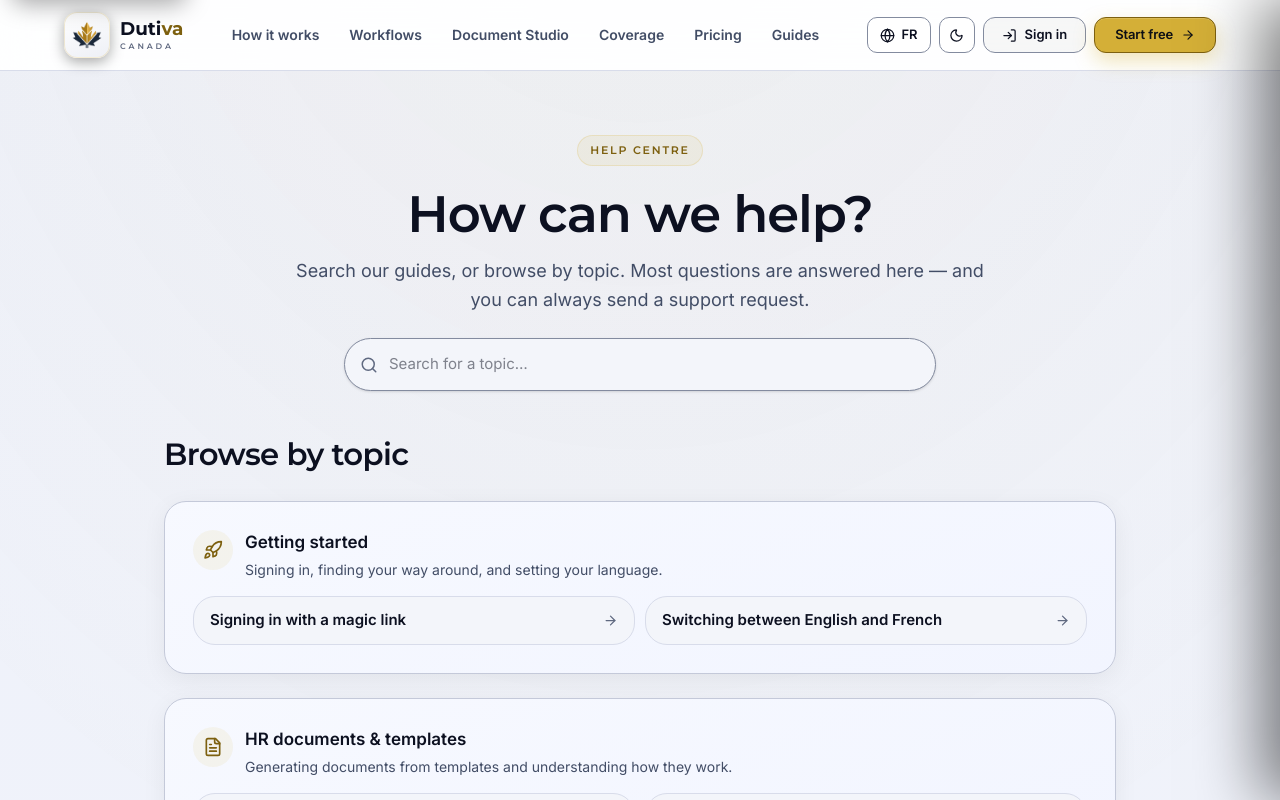
it: HelpCenterPage › clears the query with the clear button
The image size is (1280, 800).
Type "billing" into the search field. click: {"x": 640, "y": 365}
box: [344,338,936,391]
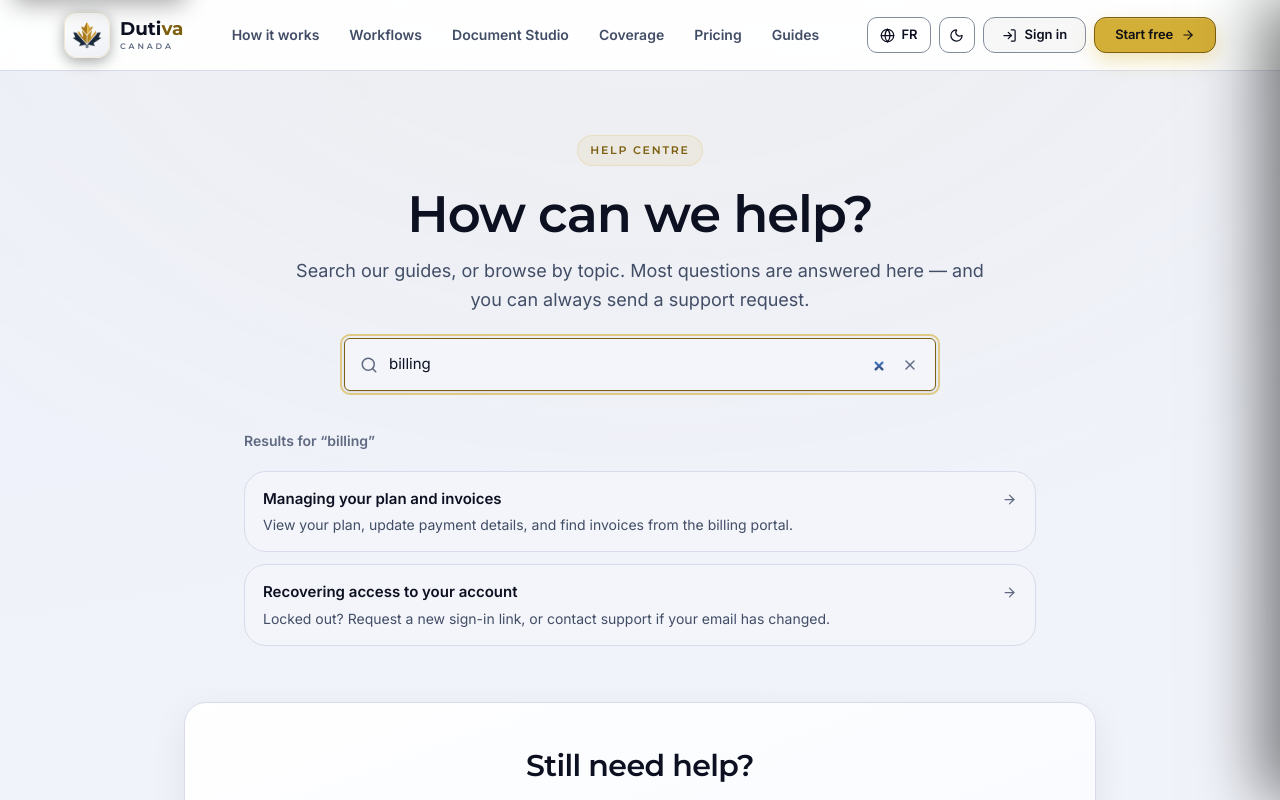
Expected: the heading "Results for “billing”" is shown, [244,432,375,449]
Click the button named "Clear search". click: {"x": 910, "y": 365}
box: [896,351,924,379]
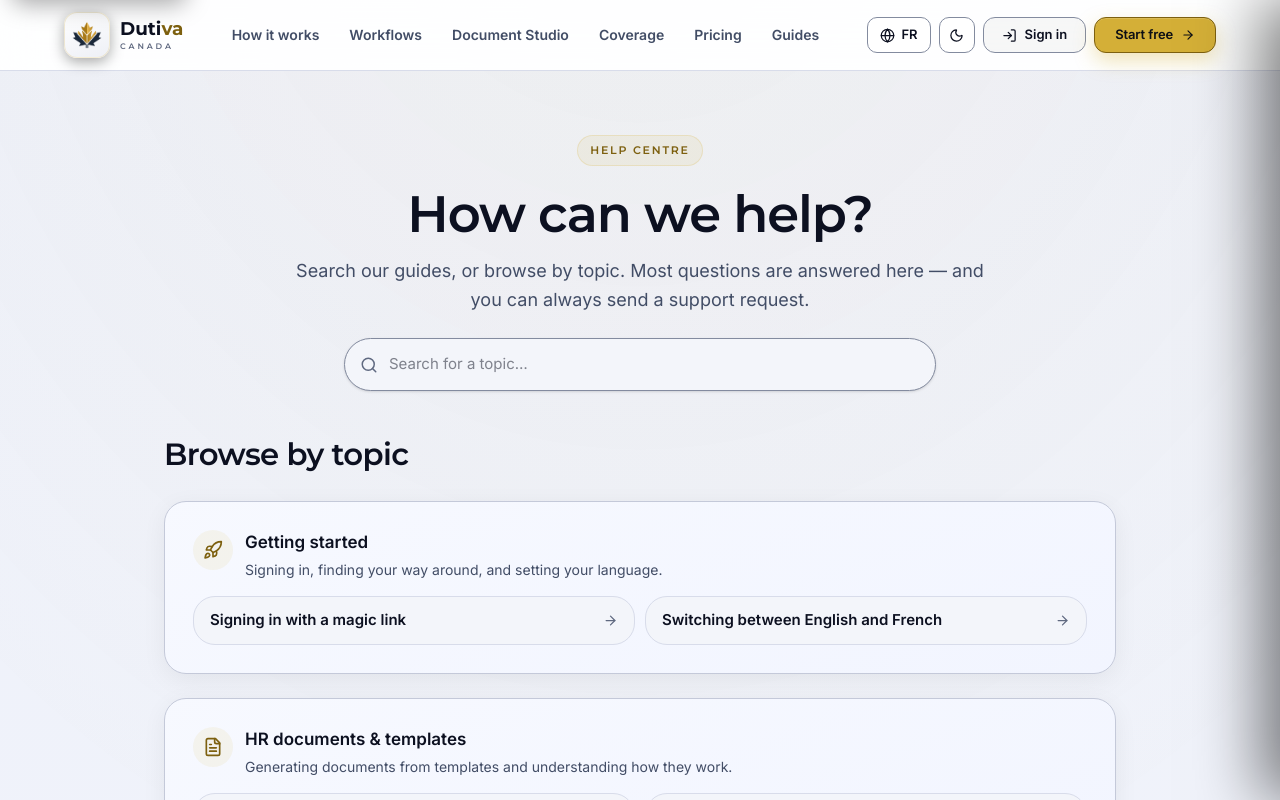
Expected: the heading "Results for" is gone
